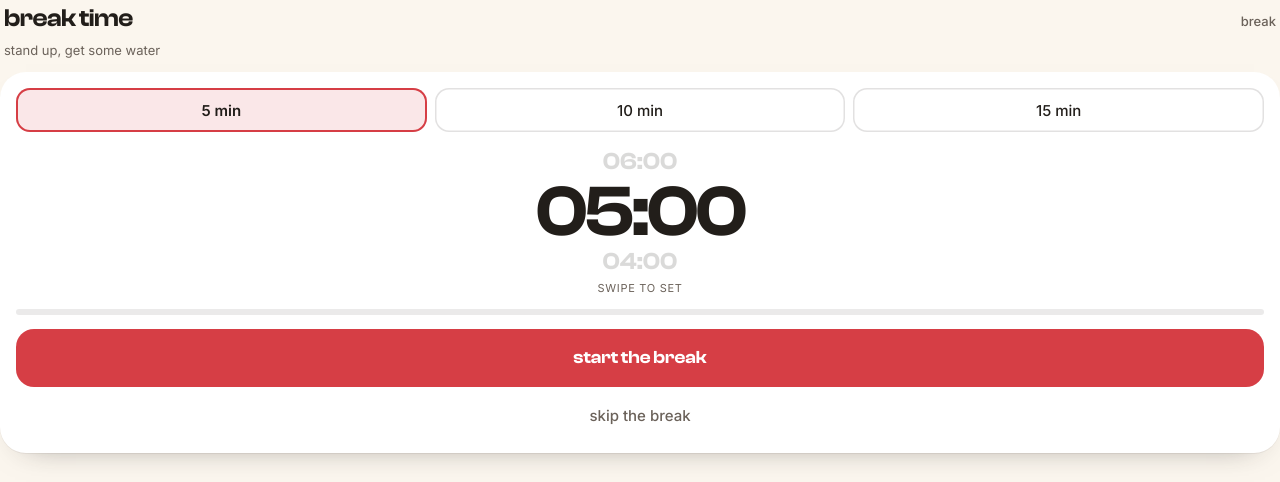
Test: the primary action › starts a break when the break mode is armed
Expected: the heading "break time" is shown, [4,4,133,32]
Click the button "start the break" at (640, 358), box [16,329,1264,387]
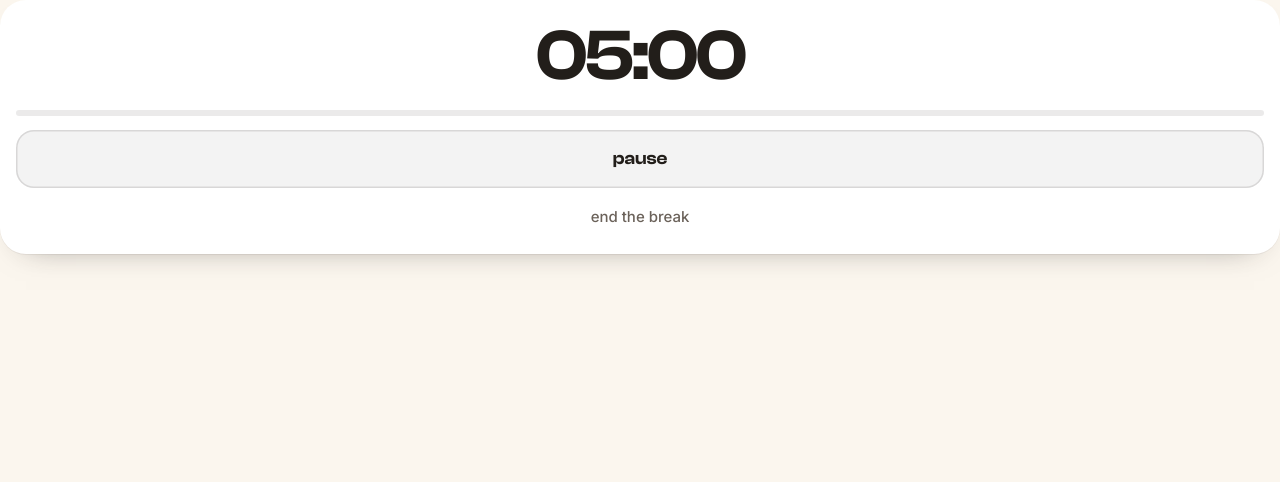
Expected: the button "pause" is shown, [16,130,1264,188]
